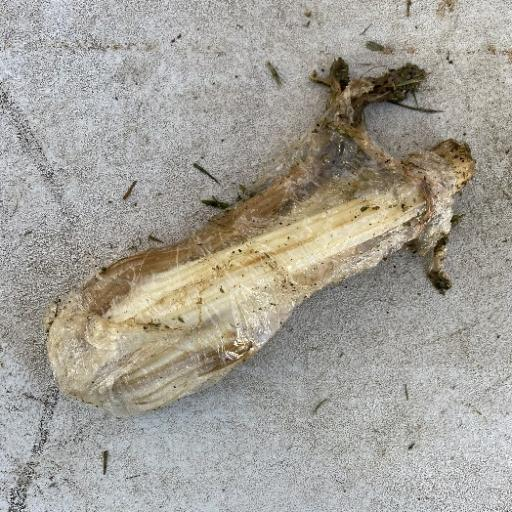Waste: (42, 56, 476, 419)
